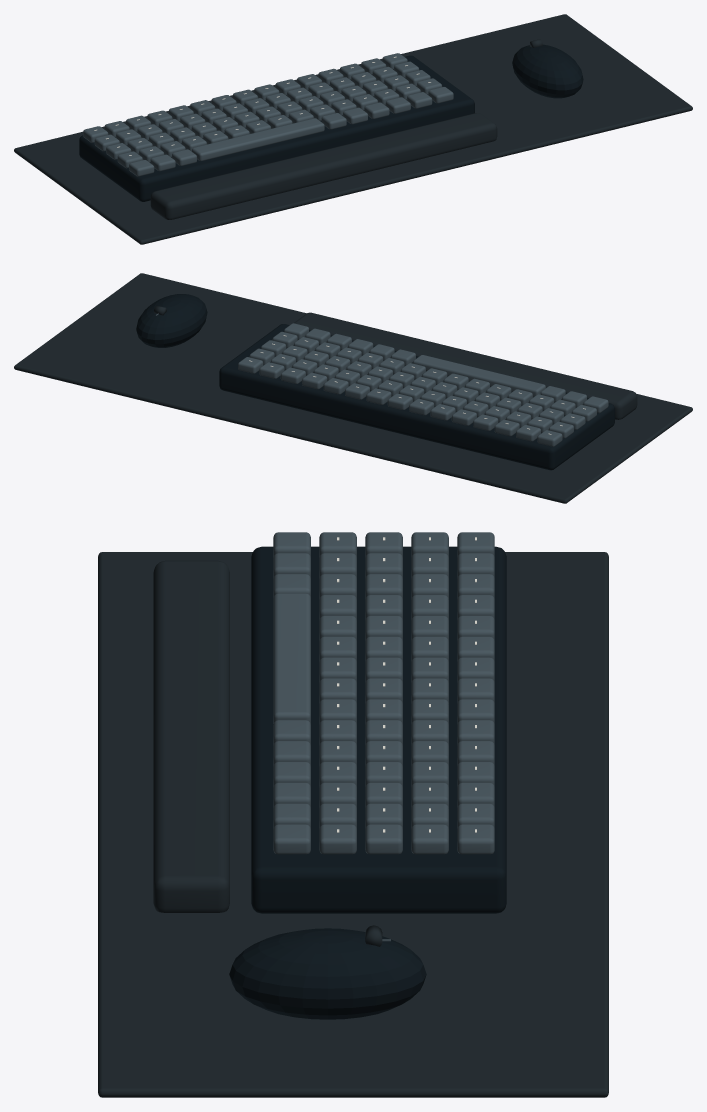
The model's file is keyboard_mouse.glb.
3 views of the same model, one above another, from view 1: azimuth 30°, elevation 25°; view 2: azimuth 150°, elevation 25°; view 3: azimuth 270°, elevation 25° (orthographic). The views are drawn at different scales.
Parts seen in each view (by area): view 1: keyboard_mouse_Mesh; view 2: keyboard_mouse_Mesh; view 3: keyboard_mouse_Mesh.
Boxes of the visible parts, <box> form: keyboard_mouse_Mesh: <box>14,14,692,244</box>; keyboard_mouse_Mesh: <box>14,273,692,503</box>; keyboard_mouse_Mesh: <box>98,532,608,1097</box>.
Bounding box in the file's own units: 0.75 × 0.054 × 0.3.
